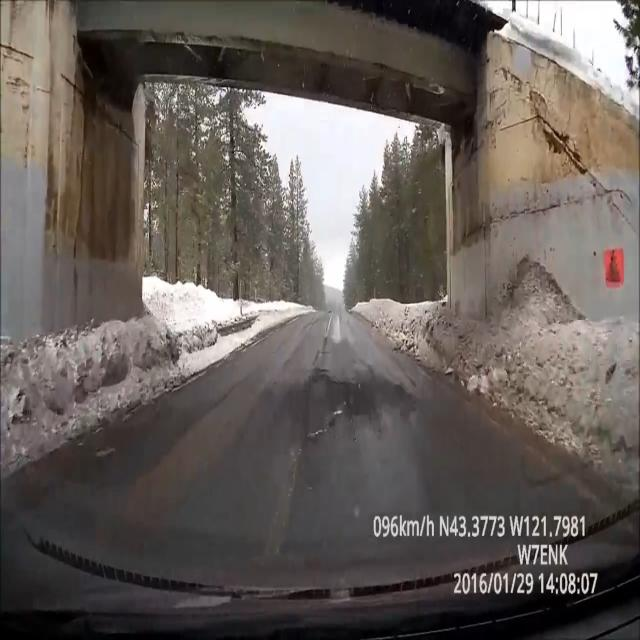Pothole: (306, 371, 361, 446)
